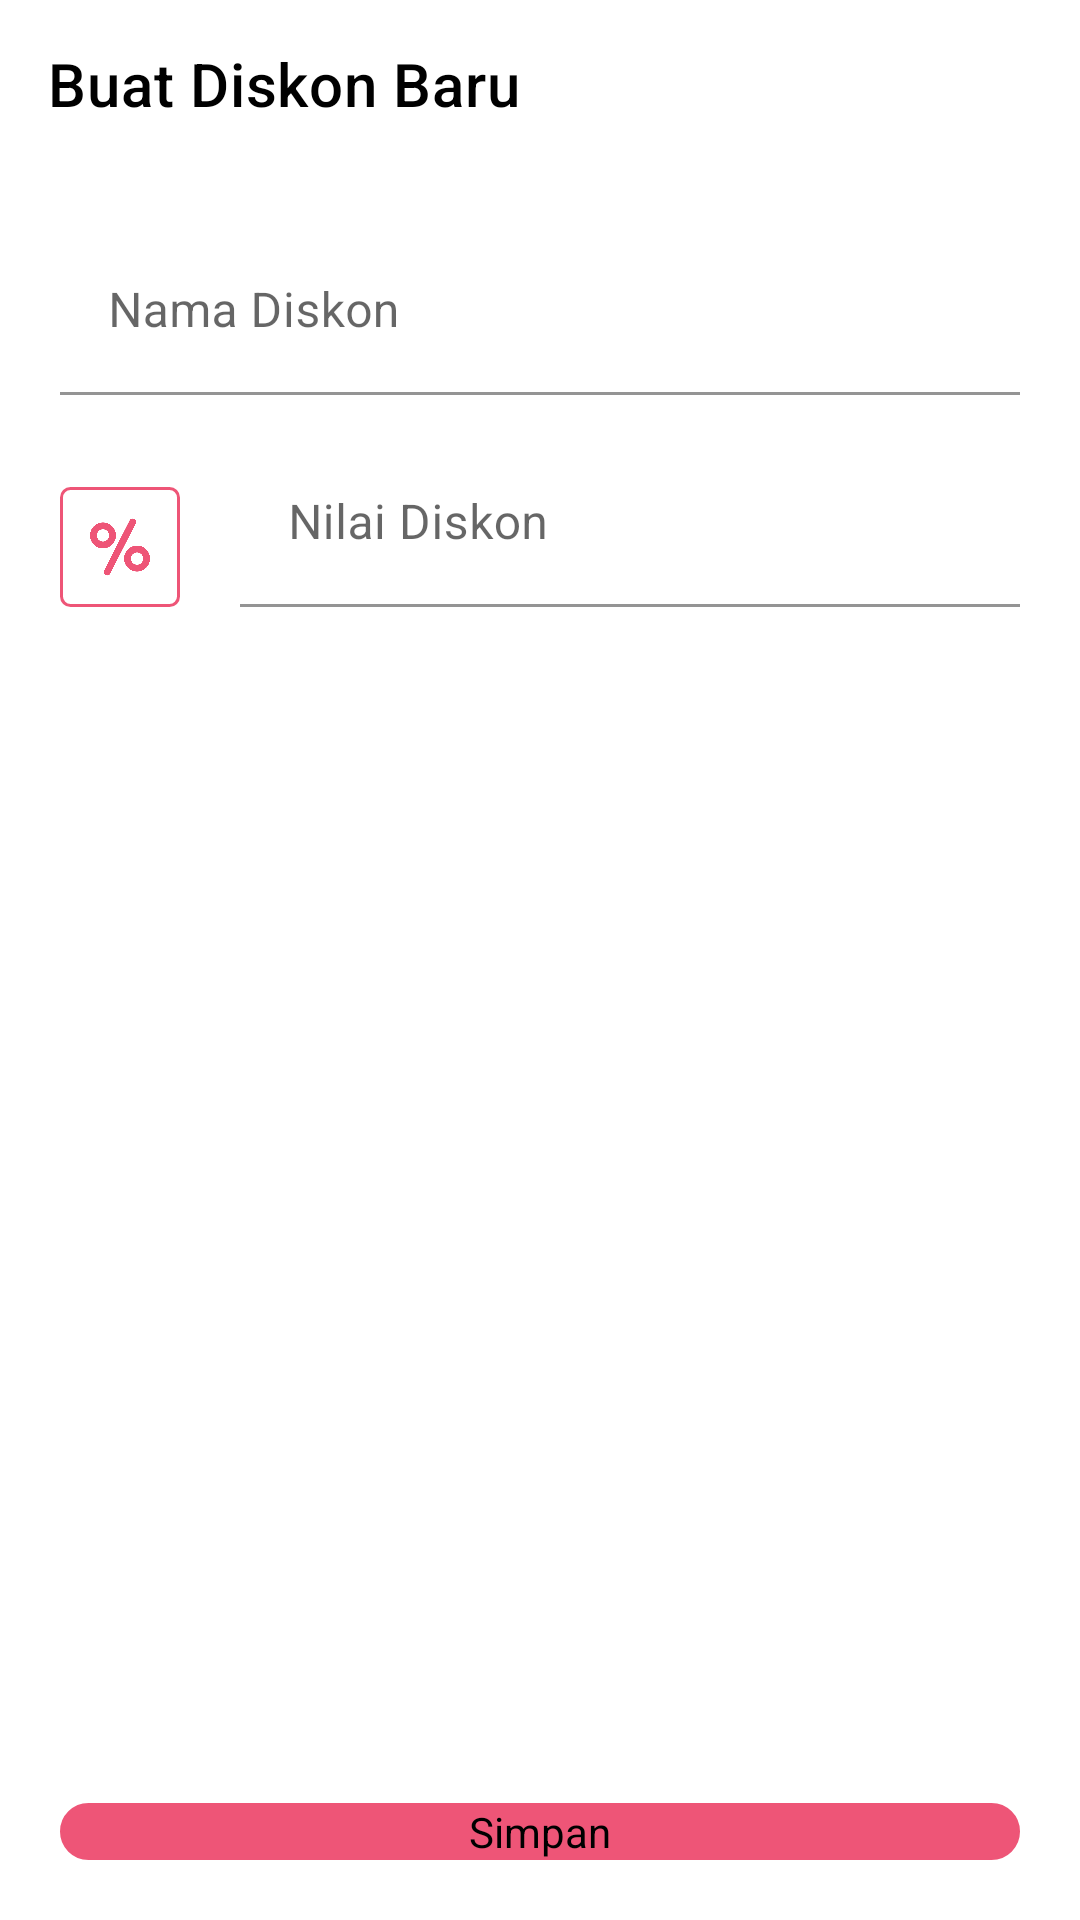

Where icons sit on this 1080px×1920px app screen, as [x1,y1,x2,y2]:
percent: [60,487,180,607]
